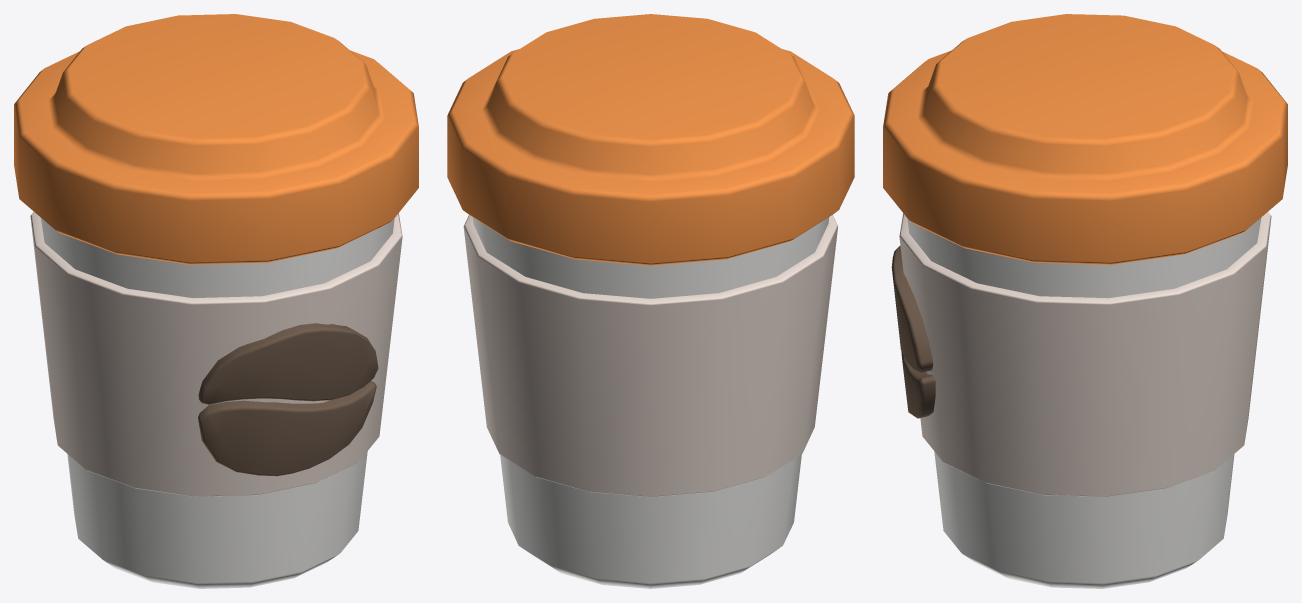
File: Coffee_drink.glb
The picture shows the model from 3 angles, left to right: view 1: azimuth 30°, elevation 25°; view 2: azimuth 150°, elevation 25°; view 3: azimuth 270°, elevation 25°; orthographic projection.
Visible parts, largest first — view 1: Coffee_Drink_1; view 2: Coffee_Drink_1; view 3: Coffee_Drink_1.
Boxes of the visible parts, bbox=[...] form: Coffee_Drink_1: bbox=[14, 14, 418, 588]; Coffee_Drink_1: bbox=[447, 14, 854, 588]; Coffee_Drink_1: bbox=[883, 14, 1287, 588].
Size of the model in its own units: 0.2286 by 0.2862 by 0.2286.
Materials: 1 (1 with a texture image).
